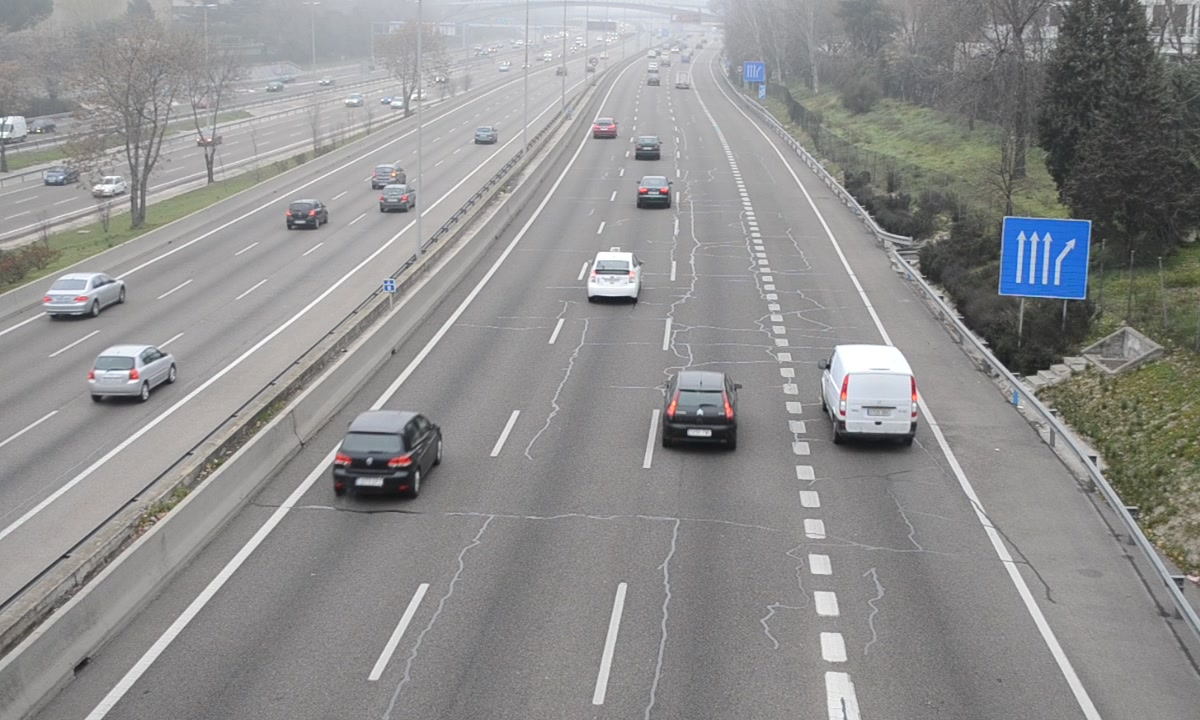car: (334, 411, 440, 498), (662, 372, 735, 446), (590, 251, 640, 299), (636, 174, 672, 211), (633, 133, 662, 162), (593, 114, 618, 140)
van: (826, 345, 918, 446)
